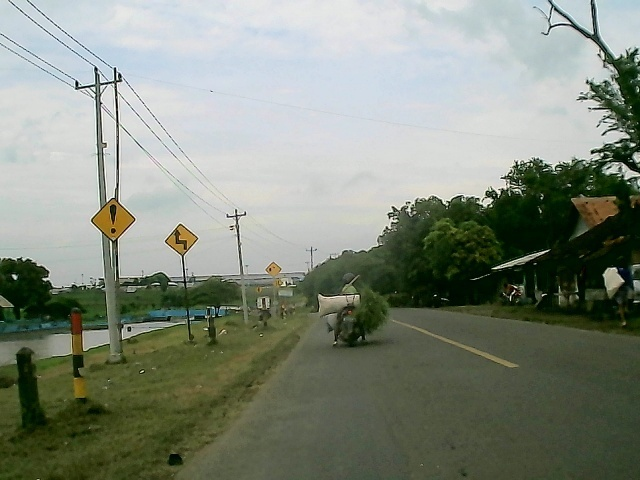Hati-hati: (88, 198, 140, 244)
Tikungan garda pertama kiri: (158, 220, 201, 259)
